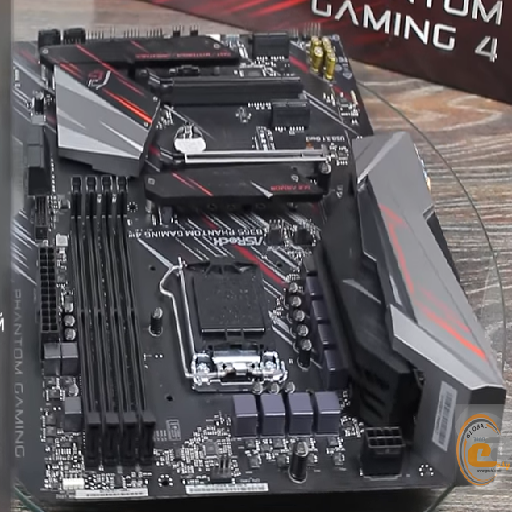CPU: (157, 248, 294, 395)
GPU: (167, 131, 351, 176), (146, 72, 313, 108)
MOTHERBOARD: (12, 14, 505, 499)
RAM: (61, 170, 168, 472)
SSD: (244, 122, 282, 163)
